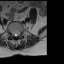CCS_severe_stenosis: (15, 30, 16, 38)
LFS_normal: (18, 29, 20, 36)
LLS_normal: (16, 29, 18, 36)
RFS_normal: (11, 29, 13, 36)
RLS_normal: (13, 29, 15, 37)
